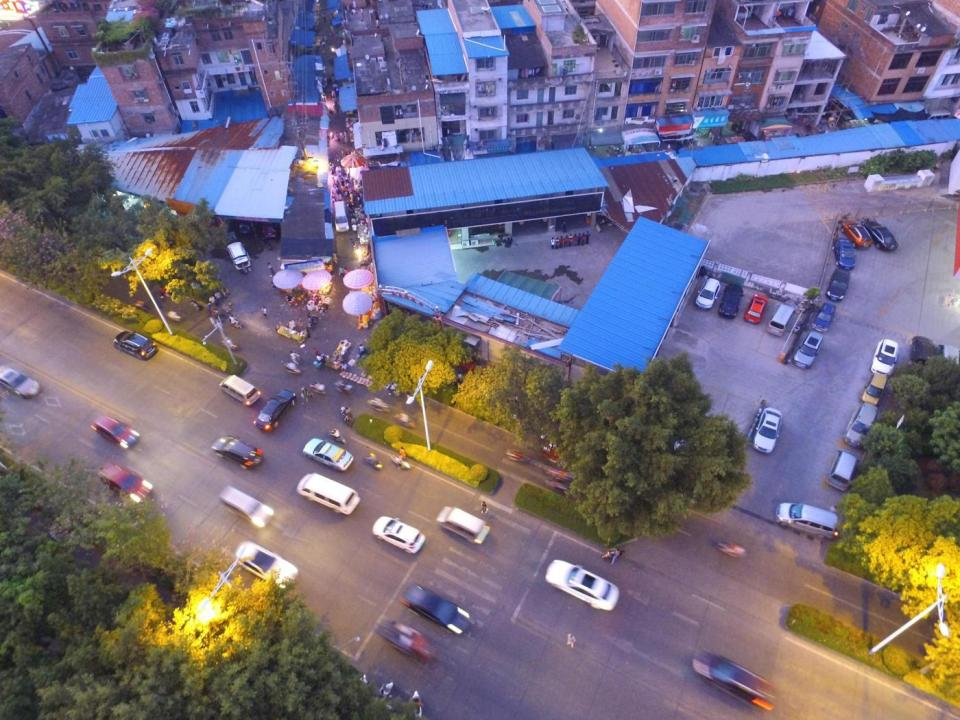car: (692, 647, 779, 709), (545, 559, 619, 609), (400, 583, 470, 633), (234, 540, 298, 587), (376, 615, 435, 661), (99, 461, 153, 504), (436, 502, 491, 544), (372, 515, 426, 555), (210, 435, 265, 469), (253, 388, 296, 431), (303, 436, 355, 471), (92, 414, 140, 449), (752, 406, 783, 452), (0, 363, 40, 397), (112, 330, 157, 360), (862, 218, 898, 252), (869, 339, 899, 376), (793, 331, 823, 366), (841, 219, 872, 249), (719, 284, 744, 318), (861, 372, 885, 406), (827, 267, 850, 302), (695, 277, 720, 309), (744, 292, 768, 325), (811, 301, 836, 332), (832, 238, 856, 269), (228, 241, 252, 271), (238, 200, 254, 236), (262, 211, 278, 240)
van: (297, 472, 362, 516), (773, 501, 840, 538), (220, 483, 273, 528), (843, 401, 878, 447), (827, 448, 860, 493), (219, 372, 261, 407), (909, 336, 936, 370), (768, 304, 796, 335), (937, 342, 958, 374), (334, 199, 350, 234)
